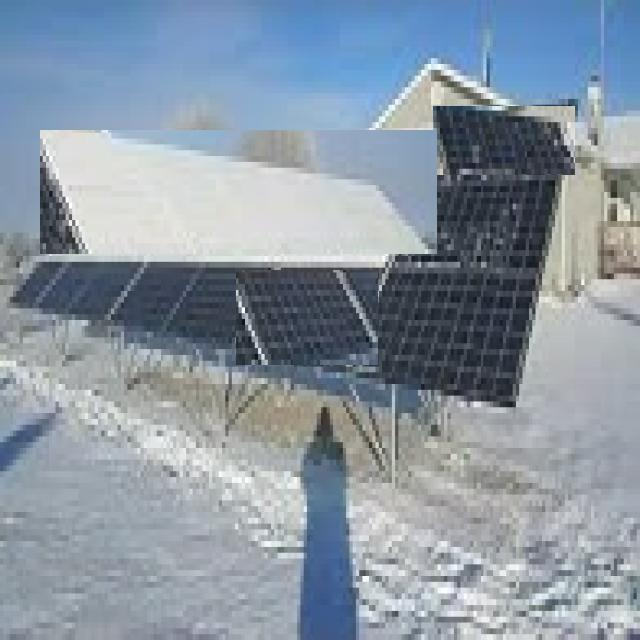Snow: (40, 131, 436, 254)
